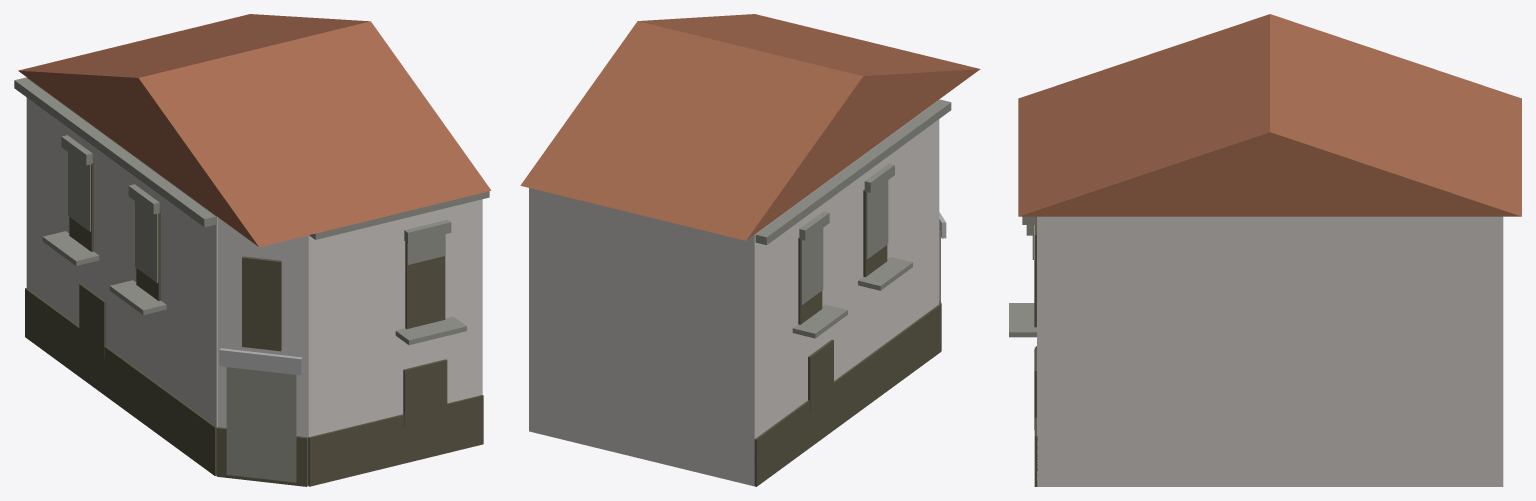
File: SM_Esquina_v2_BajoChaflan_LOD1.fbx
3 renders of one model, left to right at view 1: azimuth 30°, elevation 25°; view 2: azimuth 150°, elevation 25°; view 3: azimuth 270°, elevation 25°, orthographic. The views are drawn at different scales.
Visible parts, largest first — view 1: SM_pueblo_valenciano_v2_LOD1; view 2: SM_pueblo_valenciano_v2_LOD1; view 3: SM_pueblo_valenciano_v2_LOD1.
Boxes of the visible parts, bbox=[...] form: SM_pueblo_valenciano_v2_LOD1: bbox=[14, 14, 491, 486]; SM_pueblo_valenciano_v2_LOD1: bbox=[520, 14, 980, 486]; SM_pueblo_valenciano_v2_LOD1: bbox=[1009, 14, 1521, 486].
Bounding box in the file's own units: 6.6 × 8.4 × 11.
